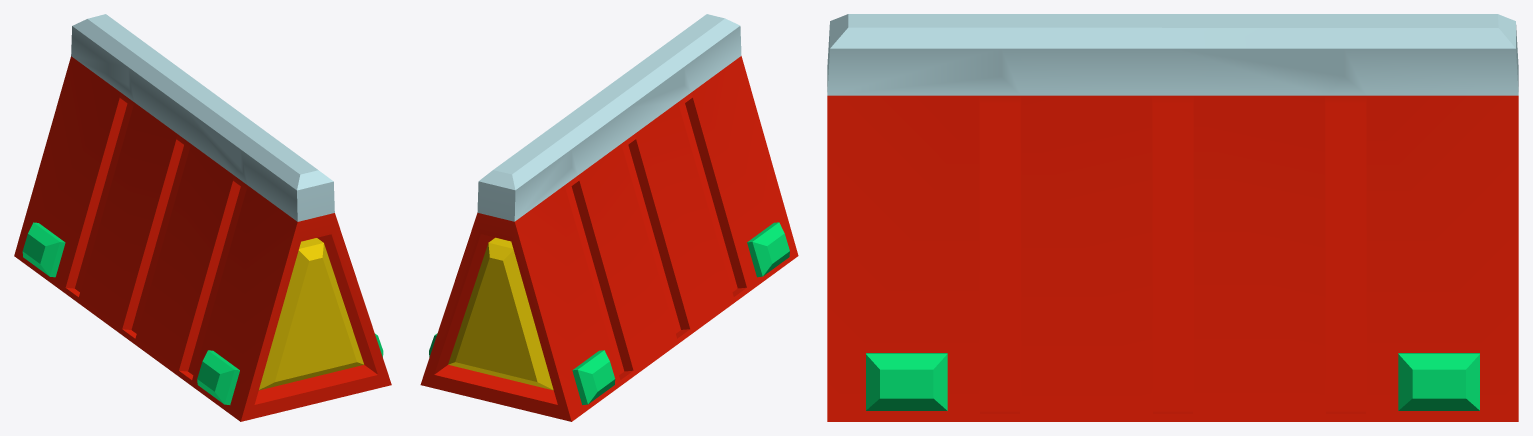
Rendered from Barriers.fbx.
3 renders of one model, left to right at view 1: azimuth 30°, elevation 25°; view 2: azimuth 150°, elevation 25°; view 3: azimuth 270°, elevation 25°, orthographic. The views are drawn at different scales.
Parts seen in each view (by area): view 1: Barrier; view 2: Barrier; view 3: Barrier.
Part boxes in pixels (x1,y1,x2,y2): Barrier: (14, 14, 391, 421); Barrier: (420, 14, 798, 421); Barrier: (827, 14, 1518, 421).
Size of the model in its own units: 1.11 by 1.43 by 2.6.
